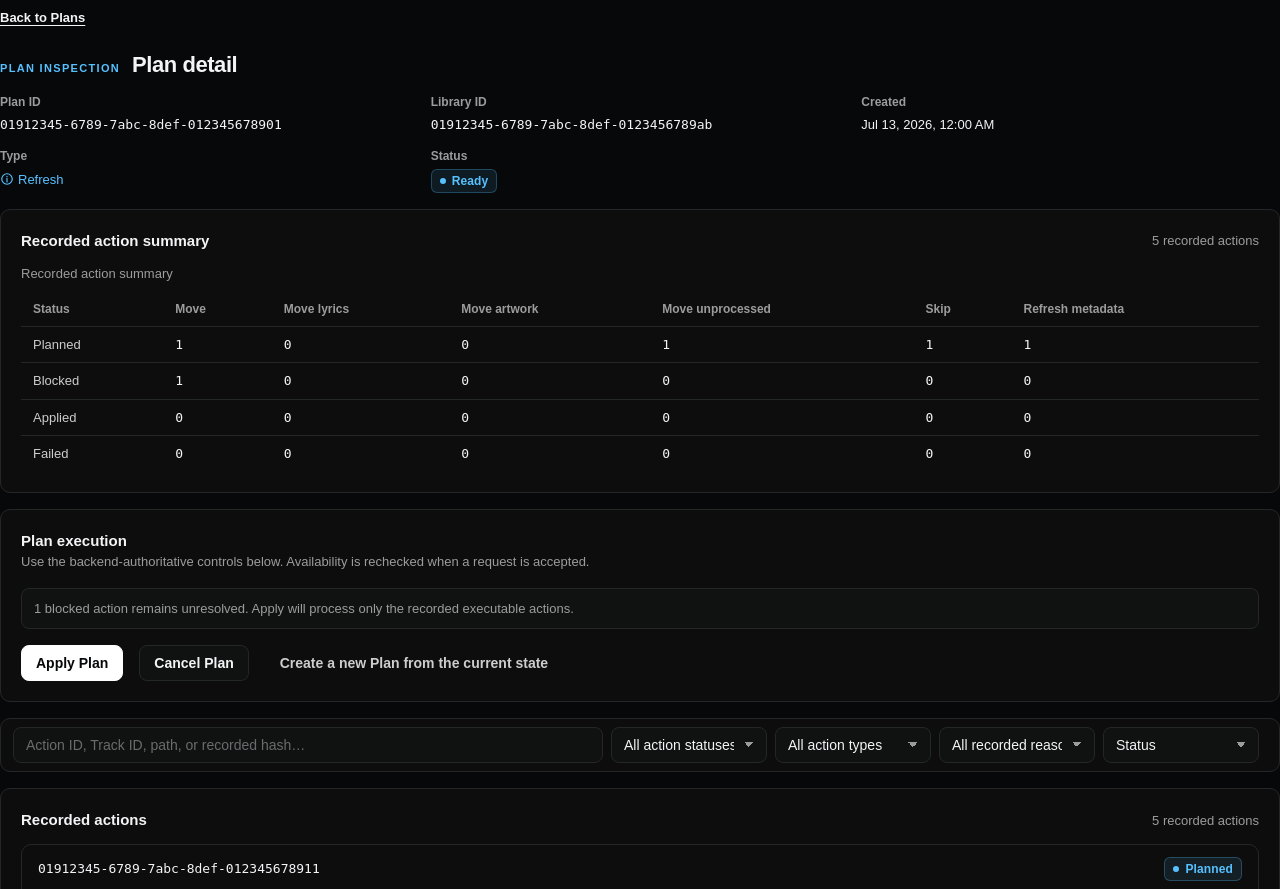
PlanDetail › refreshes Bootstrap once for safe Cancel and focuses the updated controls
Click the button "Cancel Plan" at coordinates (194, 663), box x1=139 y1=645 x2=249 y2=681
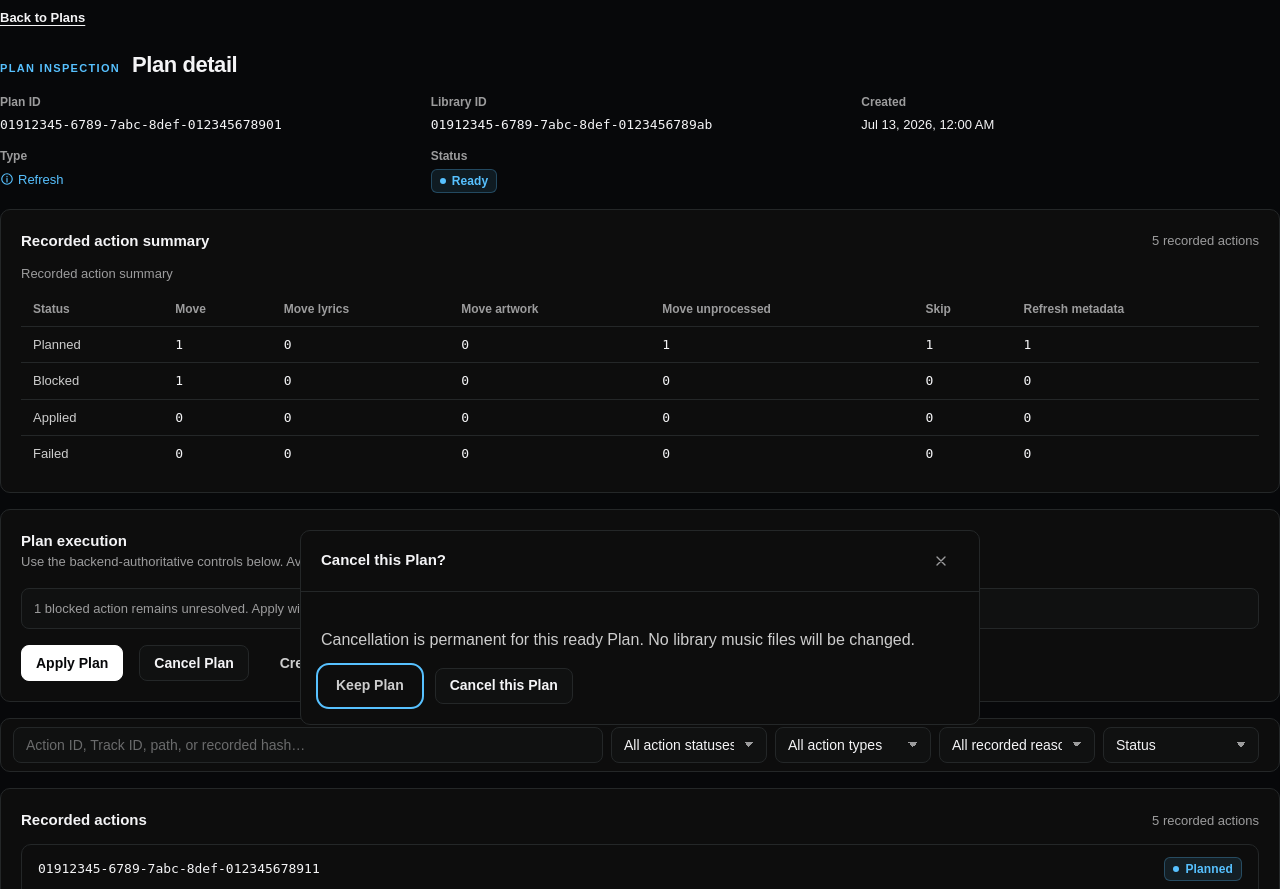
Click the button "Keep Plan" at coordinates (370, 686), box x1=321 y1=668 x2=419 y2=704
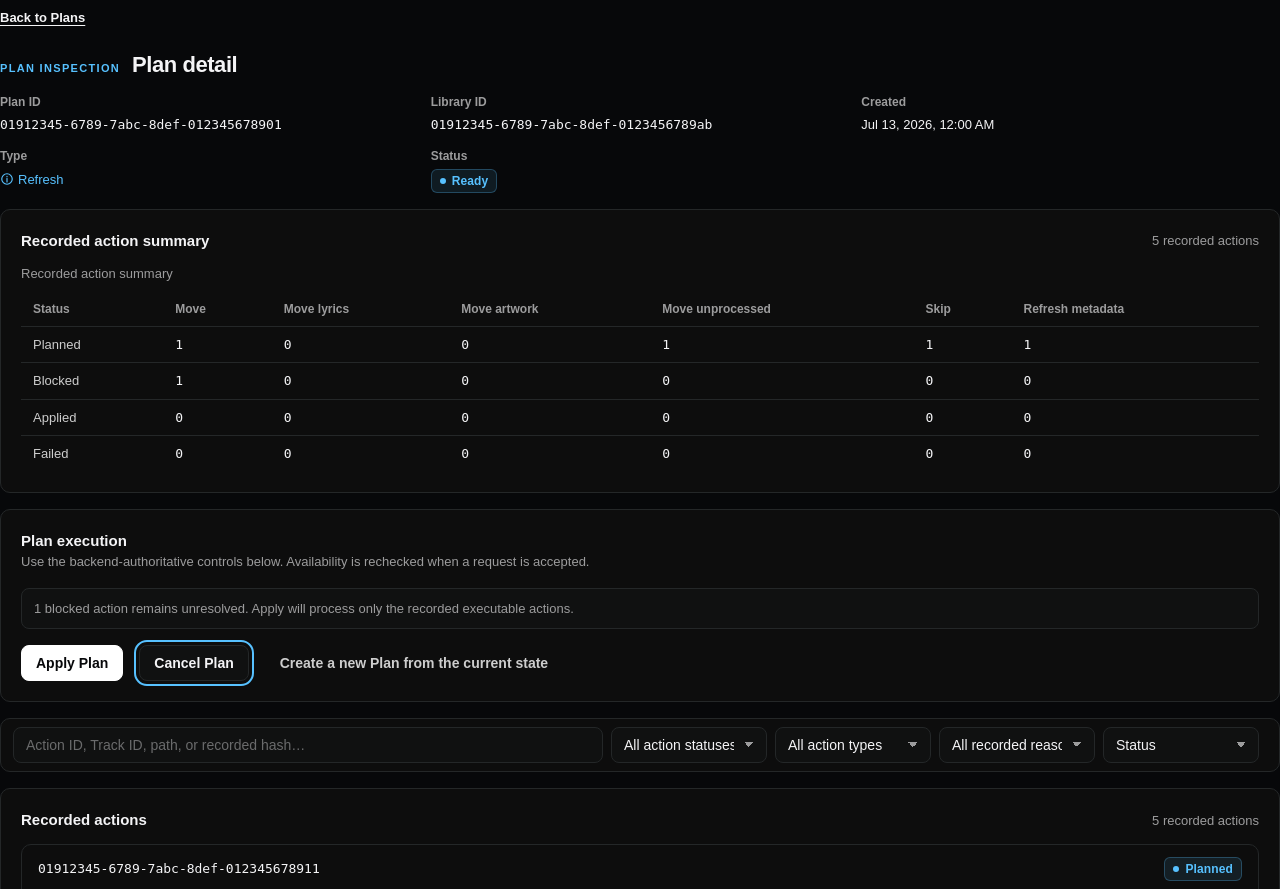
Check: the heading "Cancel this Plan?" is gone
Click the button "Cancel Plan" at coordinates (194, 663), box x1=139 y1=645 x2=249 y2=681
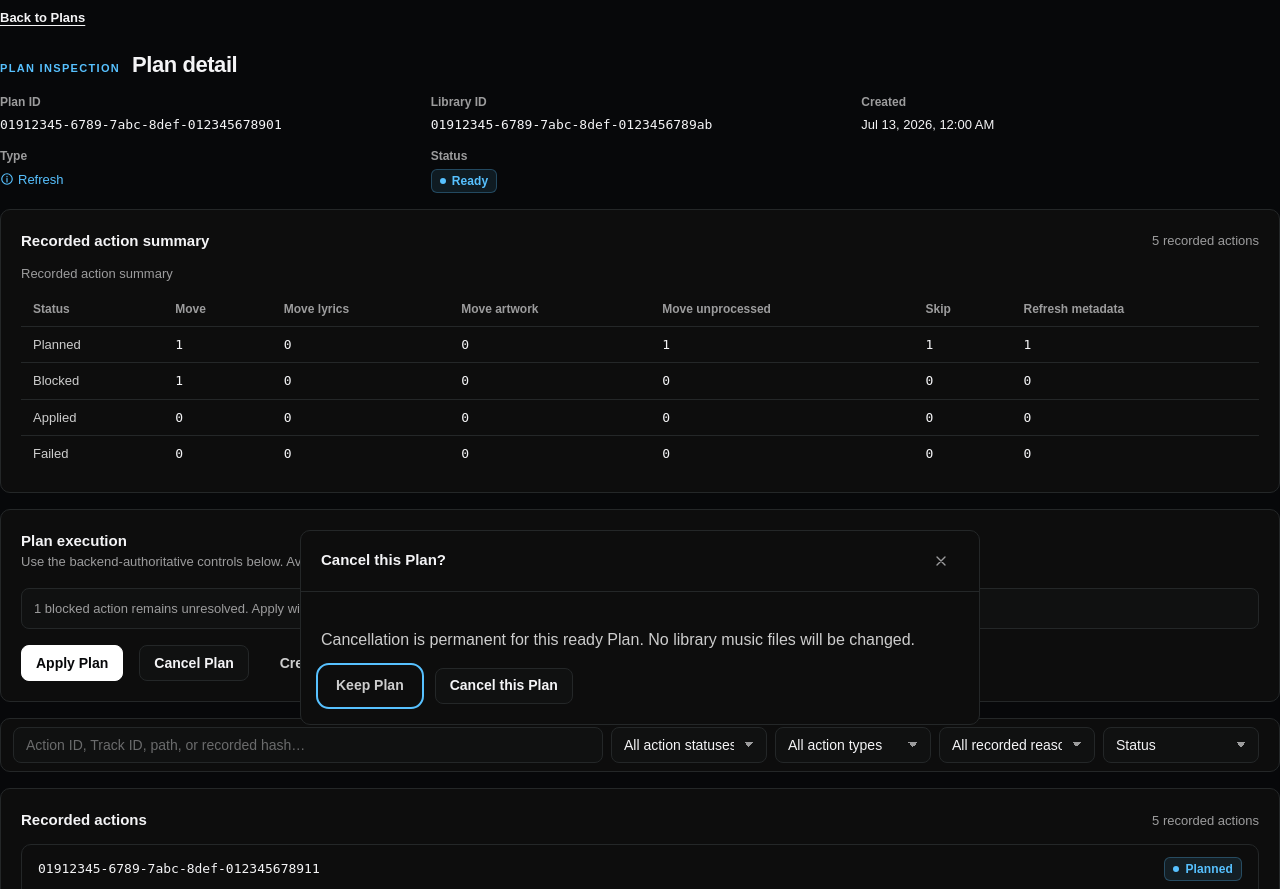
Click the button "Cancel this Plan" at coordinates (504, 686), box x1=435 y1=668 x2=573 y2=704
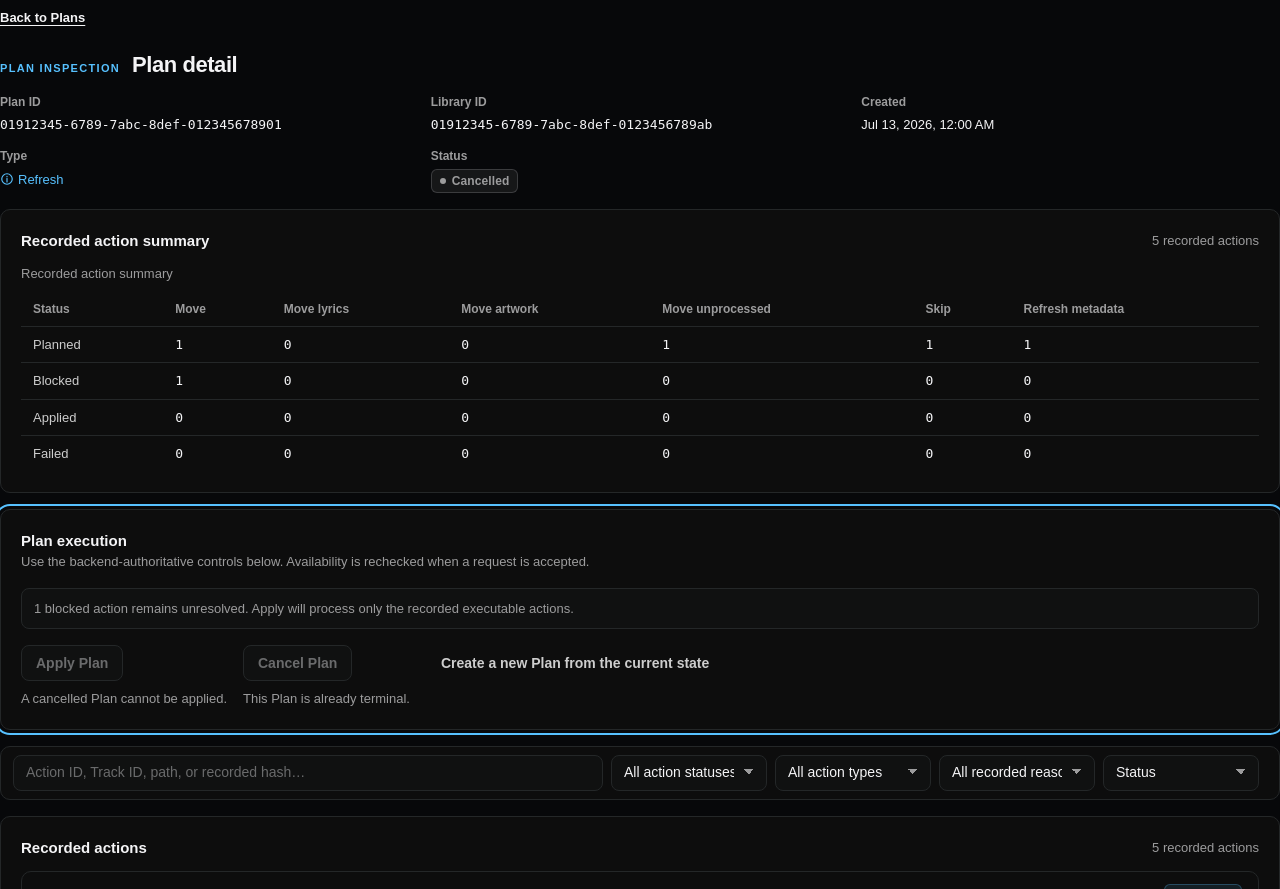
Check: the text "Cancelled" is shown, box x1=431 y1=169 x2=518 y2=193
